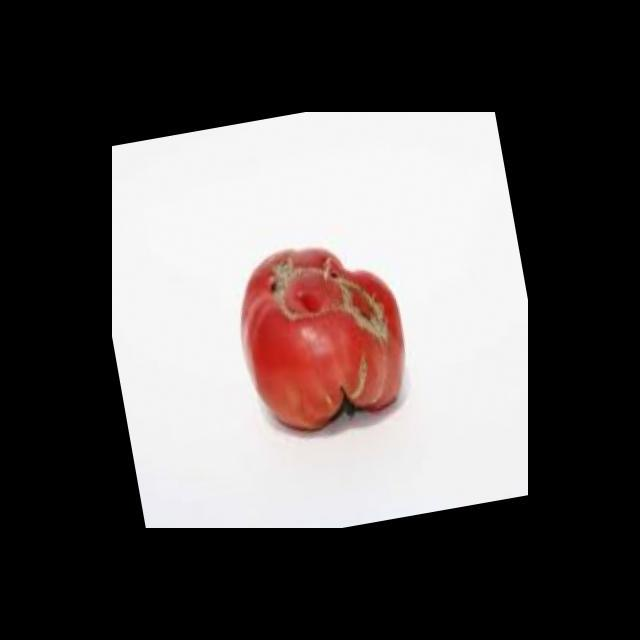tomato: (232, 239, 410, 436)
